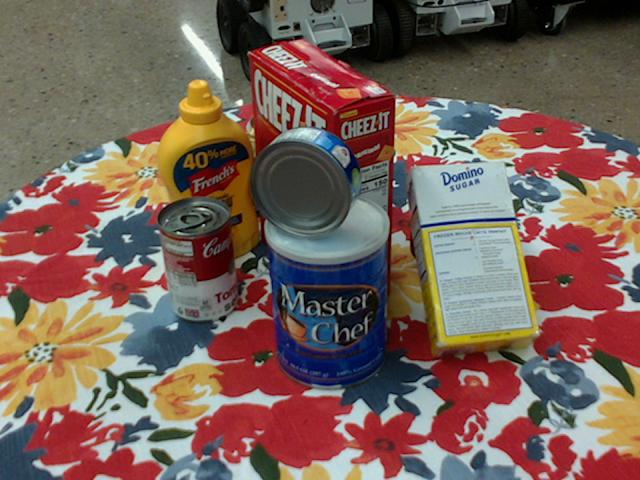cracker_box: (250, 40, 396, 312)
gelatin_box: (306, 127, 382, 209)
large_marker: (246, 81, 291, 135)
master_chef_can: (264, 193, 388, 392)
mug: (407, 165, 505, 272)
mustard_bottle: (156, 81, 258, 265)
potted_meat_can: (218, 124, 312, 222)
sugar_box: (404, 161, 541, 360)
tomato_soup_can: (156, 196, 237, 322)
tuna_fish_can: (250, 126, 362, 238)
